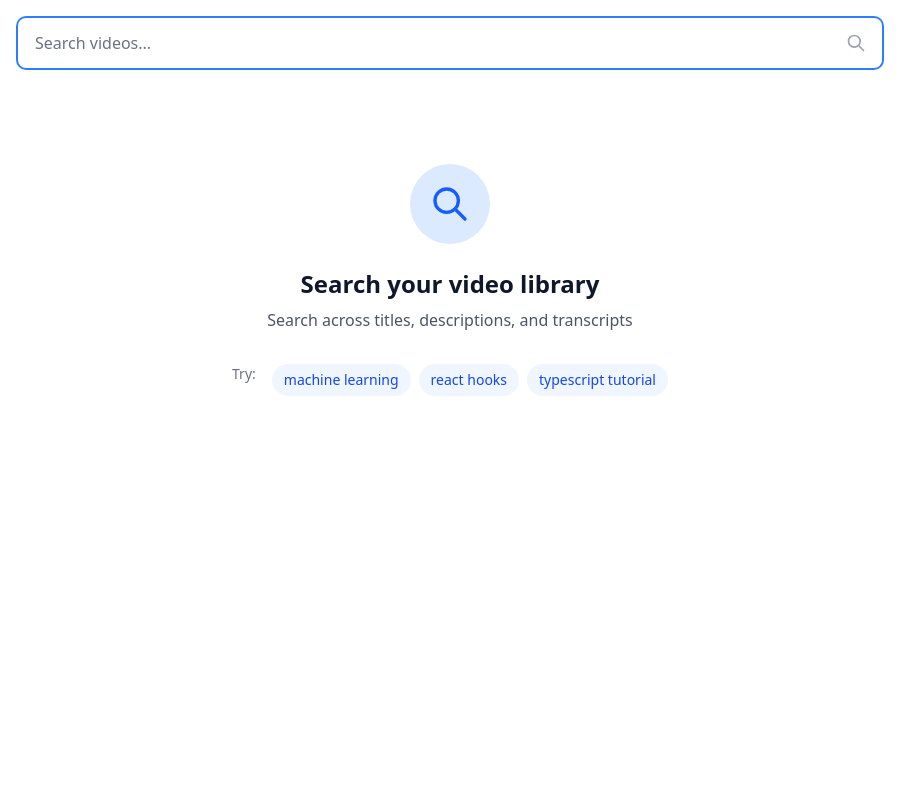
Test: SearchPage Phase 6 Tests › T038: Static Results Tests › should show Showing N of M header when results are capped
In the search field: (450, 43) x1=18 y1=18 x2=882 y2=68, type "test"
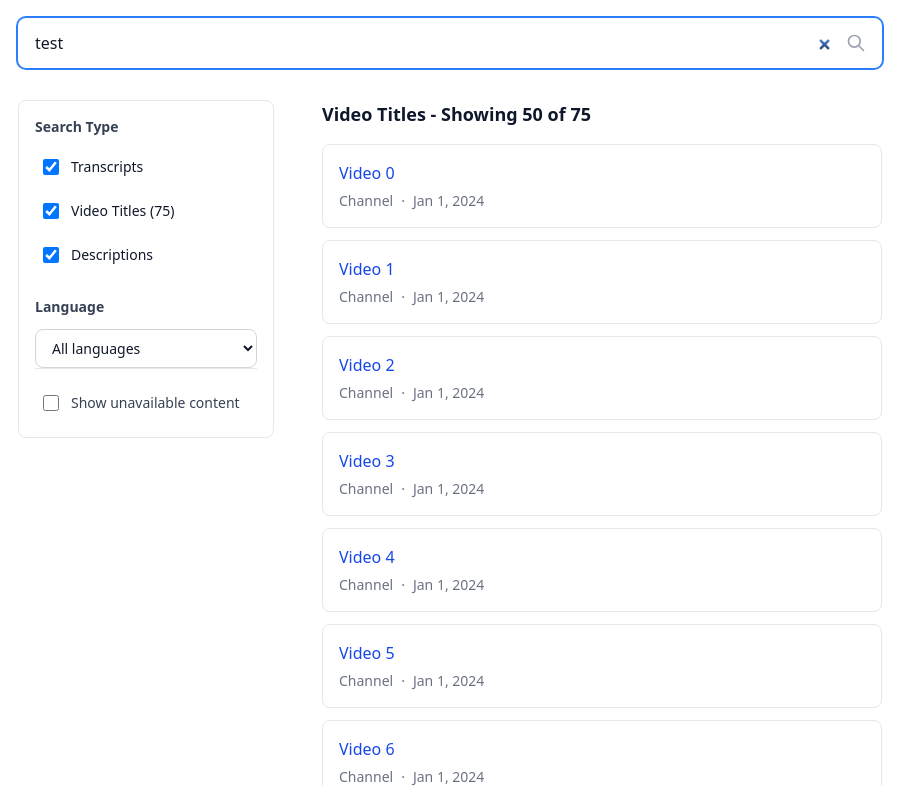
Result: the link "Video 0" is shown at x1=339 y1=162 x2=395 y2=184
Result: the heading "Video Titles - Showing 50 of 75" is shown at x1=322 y1=102 x2=591 y2=126
